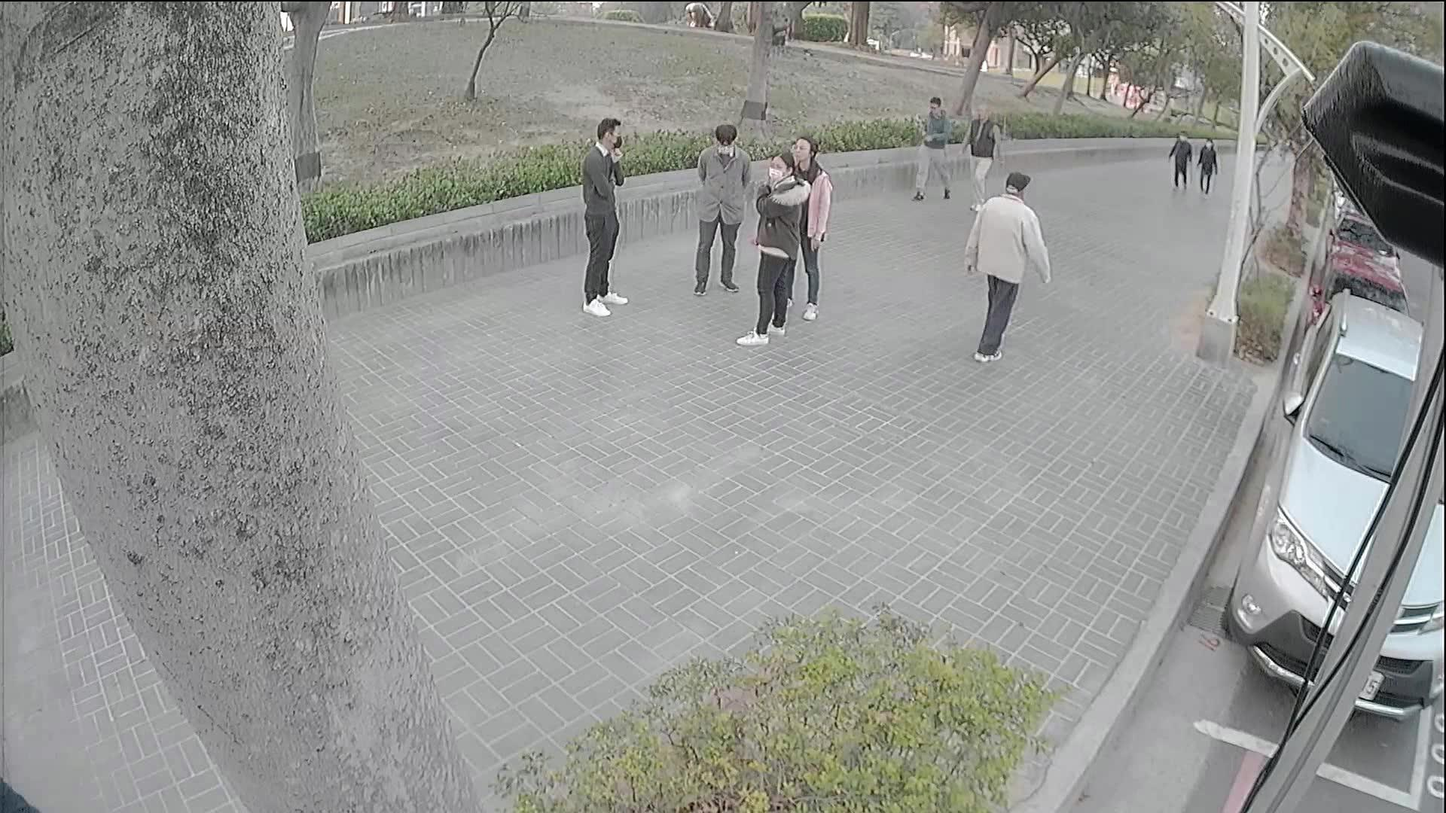person: (956, 165, 1051, 367), (731, 145, 809, 354), (783, 129, 844, 322), (578, 120, 629, 308), (693, 122, 746, 296), (962, 101, 1011, 197), (911, 93, 950, 194), (1194, 138, 1218, 196), (1167, 132, 1191, 188)
